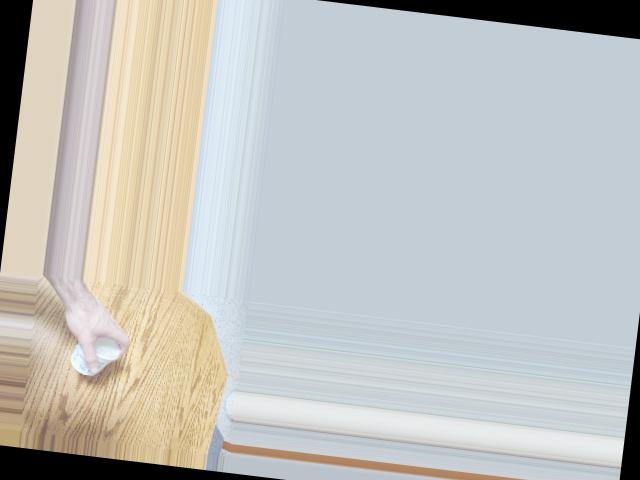cotage: (64, 324, 123, 375)
